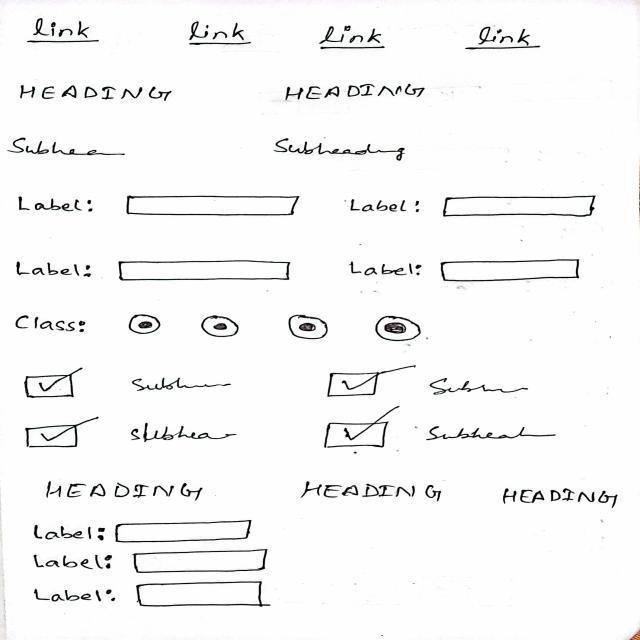radio: (282, 312, 334, 347), (369, 317, 427, 344), (199, 312, 248, 343), (127, 309, 167, 341)
textbox: (121, 190, 307, 224), (112, 256, 301, 287), (438, 190, 603, 222), (131, 578, 283, 611), (433, 257, 593, 285), (130, 547, 272, 576), (112, 521, 262, 543)
